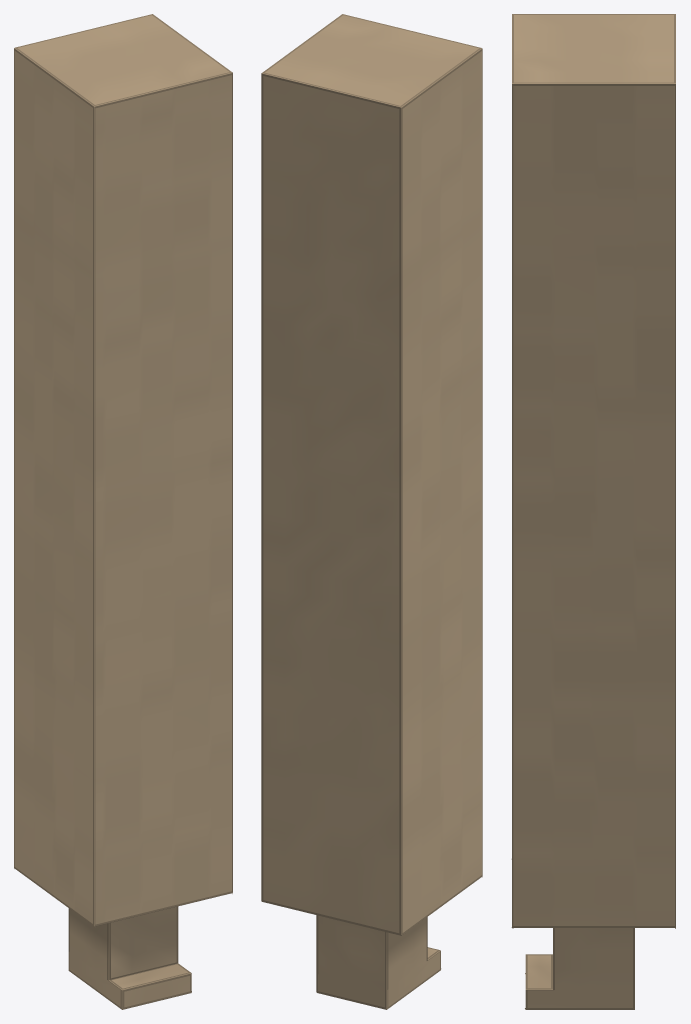
3 views of the same model, side by side, from view 1: azimuth 30°, elevation 25°; view 2: azimuth 150°, elevation 25°; view 3: azimuth 270°, elevation 25° (orthographic). The views are drawn at different scales.
Parts seen in each view (by area): view 1: part-b; view 2: part-b; view 3: part-b.
Part boxes in pixels (x1,y1,x2,y2): part-b: (14, 14, 232, 1009); part-b: (261, 14, 482, 1009); part-b: (511, 14, 675, 1009).
Size of the model in its own units: 0.1208 by 0.7608 by 0.1208.
